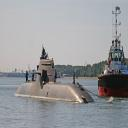submarine: (13, 61, 114, 106)
